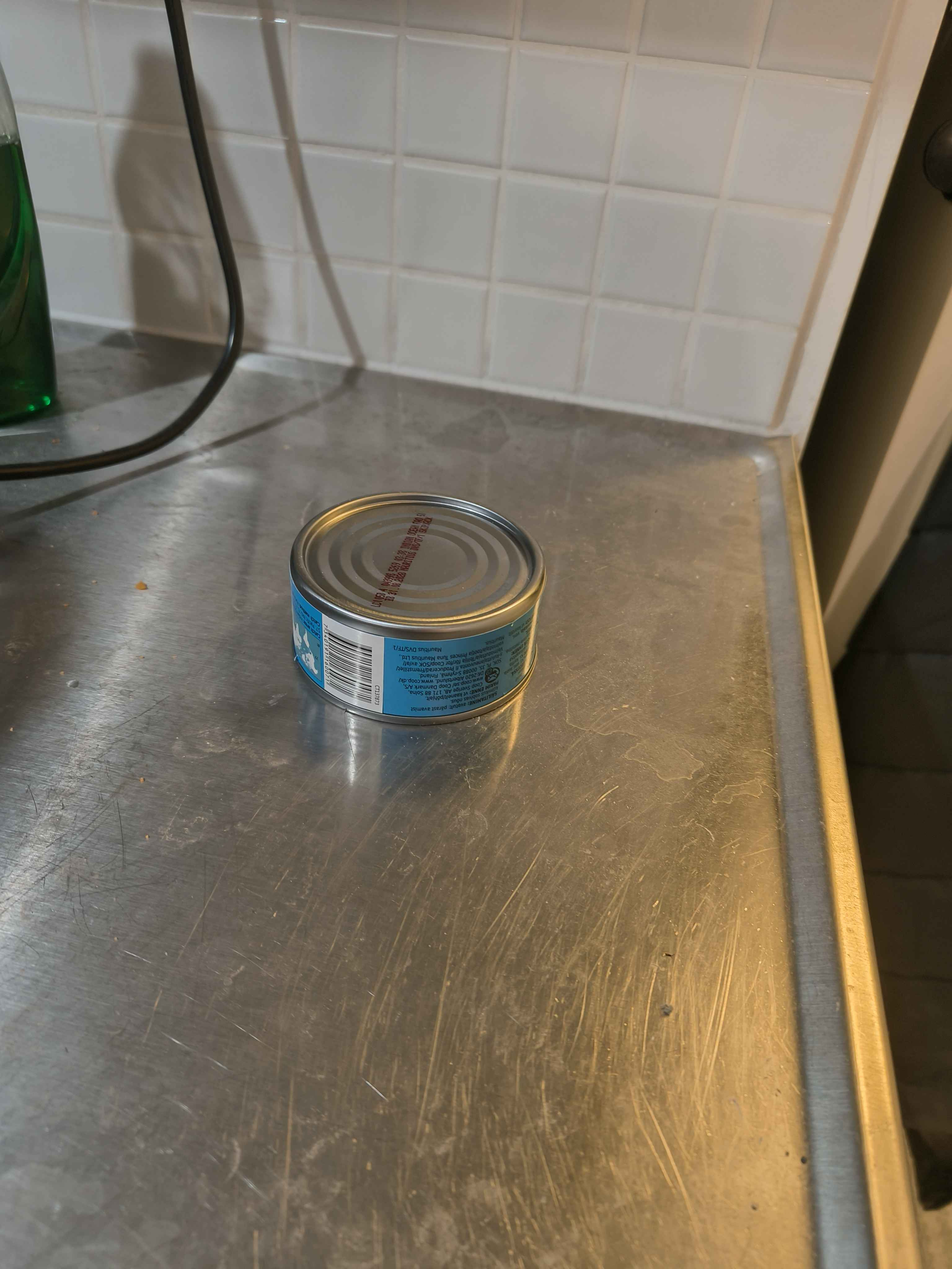Konservburk: (288, 490, 547, 726)
